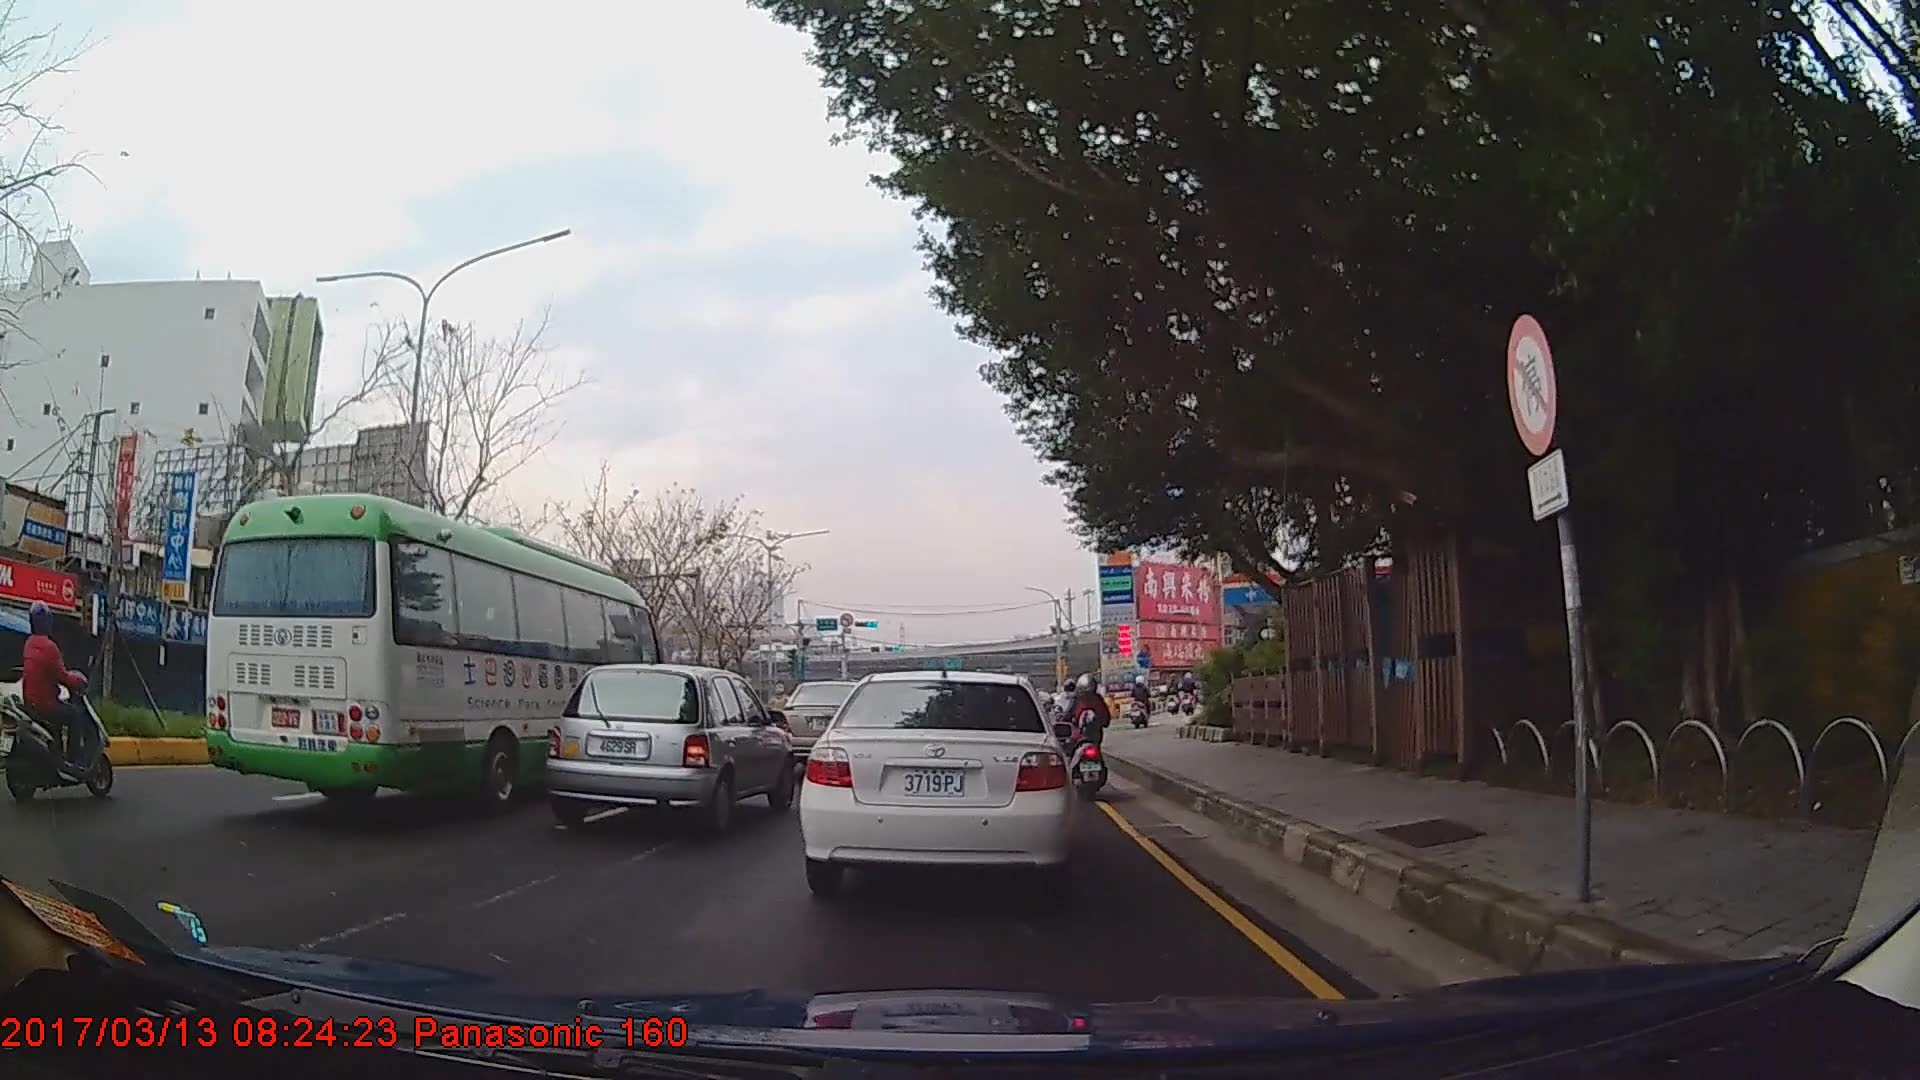rider: (6, 600, 115, 801), (1065, 673, 1113, 802), (1057, 677, 1085, 763), (1130, 676, 1154, 731)
vehicle: (204, 492, 663, 816), (797, 670, 1077, 892), (543, 657, 792, 835), (775, 676, 873, 767)
